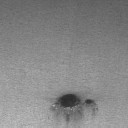iron sheet ash: (57, 94, 81, 110), (84, 99, 96, 106)
